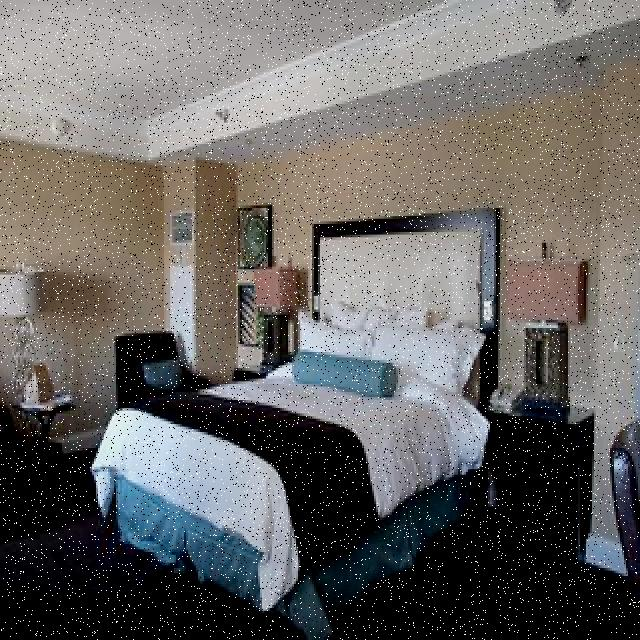bed: (111, 211, 490, 620)
